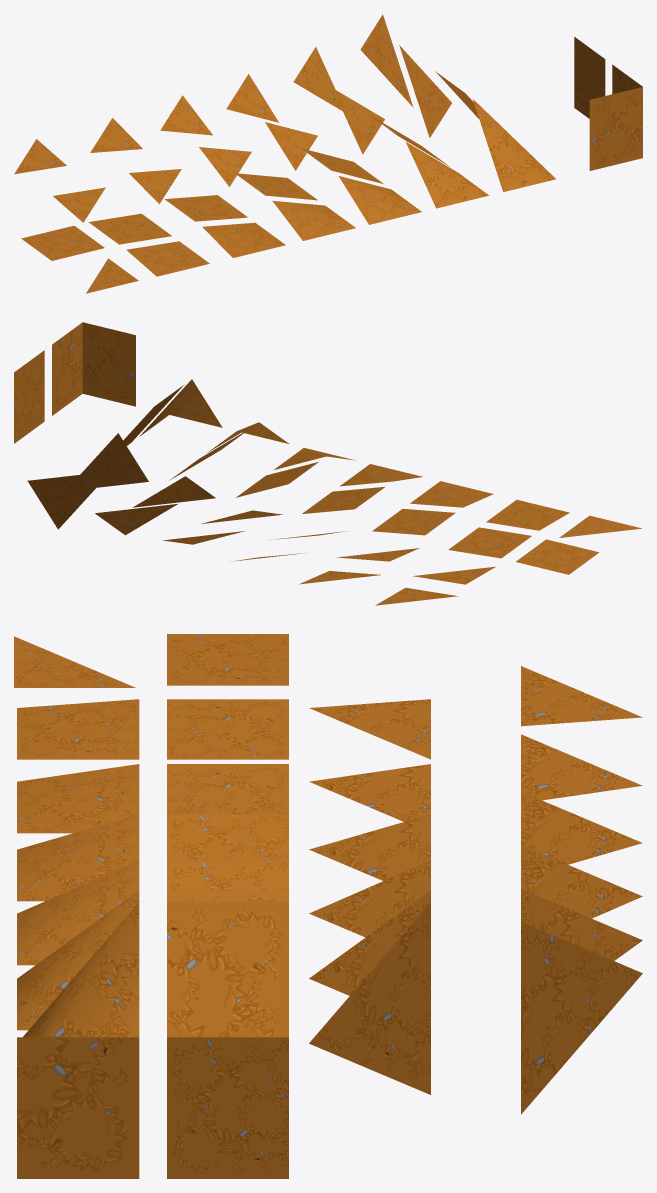
File: Landscape presets.fbx
The picture shows the model from 3 angles, top to bottom: view 1: azimuth 30°, elevation 25°; view 2: azimuth 150°, elevation 25°; view 3: azimuth 270°, elevation 25°; orthographic projection. The views are drawn at different scales.
Visible parts, largest first — view 1: CornerWall, Corner6, Corner5, Corner4, Wall, Corner3, Corner2, Corner1, Corner6.005, Corner6.001, FlatPlane, Ramp1 (+14 smaller); view 2: CornerWall, Corner6.005, Wall, Corner6.001, FlatPlane, Ramp1, Corner1, Corner6, Ramp2, Corner2, Corner5.006, Corner5.001 (+11 smaller); view 3: CornerWall, Wall, Ramp6, Corner6.001, Corner6.005, Corner6, Ramp1, Corner1, Corner2, Corner3, FlatPlane, Ramp2 (+16 smaller).
Boxes of the visible parts, x1,y1,x2,y2 form: CornerWall: (589, 64, 642, 170); Corner6: (473, 99, 555, 191); Corner5: (406, 142, 488, 208); Corner4: (338, 176, 421, 224); Wall: (574, 37, 605, 118); Corner3: (272, 200, 355, 240); Corner2: (202, 222, 285, 257); Corner1: (126, 241, 209, 276); Corner6.005: (360, 14, 413, 107); Corner6.001: (399, 45, 451, 137); FlatPlane: (21, 225, 104, 260); Ramp1: (88, 213, 171, 244); CornerWall: (52, 322, 135, 415); Corner6.005: (27, 471, 110, 529); Wall: (14, 350, 44, 443); Corner6.001: (80, 433, 148, 487); FlatPlane: (516, 539, 599, 574); Ramp1: (448, 527, 531, 558); Corner1: (486, 499, 569, 530); Corner6: (139, 379, 222, 436); Ramp2: (372, 509, 455, 535); Corner2: (410, 481, 493, 507); Corner5.006: (95, 503, 178, 535); Corner5.001: (133, 476, 215, 507); CornerWall: (17, 1037, 139, 1178); Wall: (167, 1037, 288, 1178); Ramp6: (167, 902, 288, 1037); Corner6.001: (309, 902, 430, 1094); Corner6.005: (521, 922, 642, 1114); Corner6: (23, 902, 139, 1037); Ramp1: (167, 699, 288, 759); Corner1: (17, 699, 139, 759); Corner2: (17, 764, 139, 833); Corner3: (17, 814, 139, 901); FlatPlane: (167, 634, 288, 685); Ramp2: (167, 764, 288, 814).
Size of the model in its own units: 32740 by 4996 by 16100.
